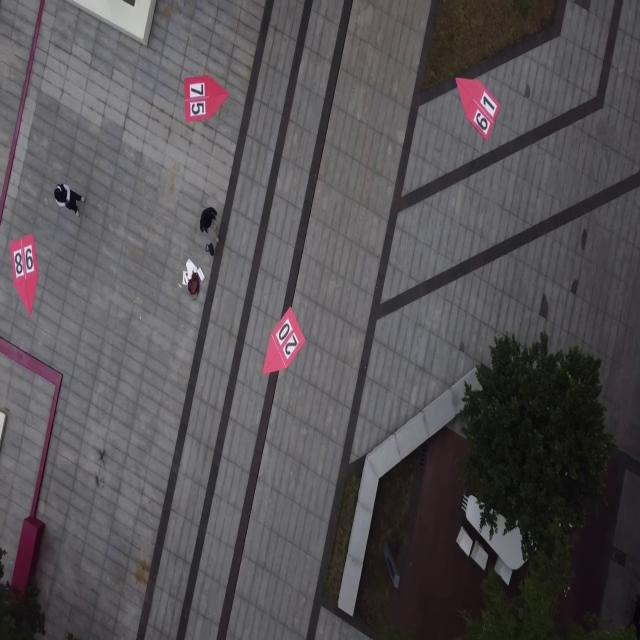-sign-: (262, 305, 306, 376), (455, 76, 500, 142), (183, 74, 230, 125), (11, 233, 38, 315)
